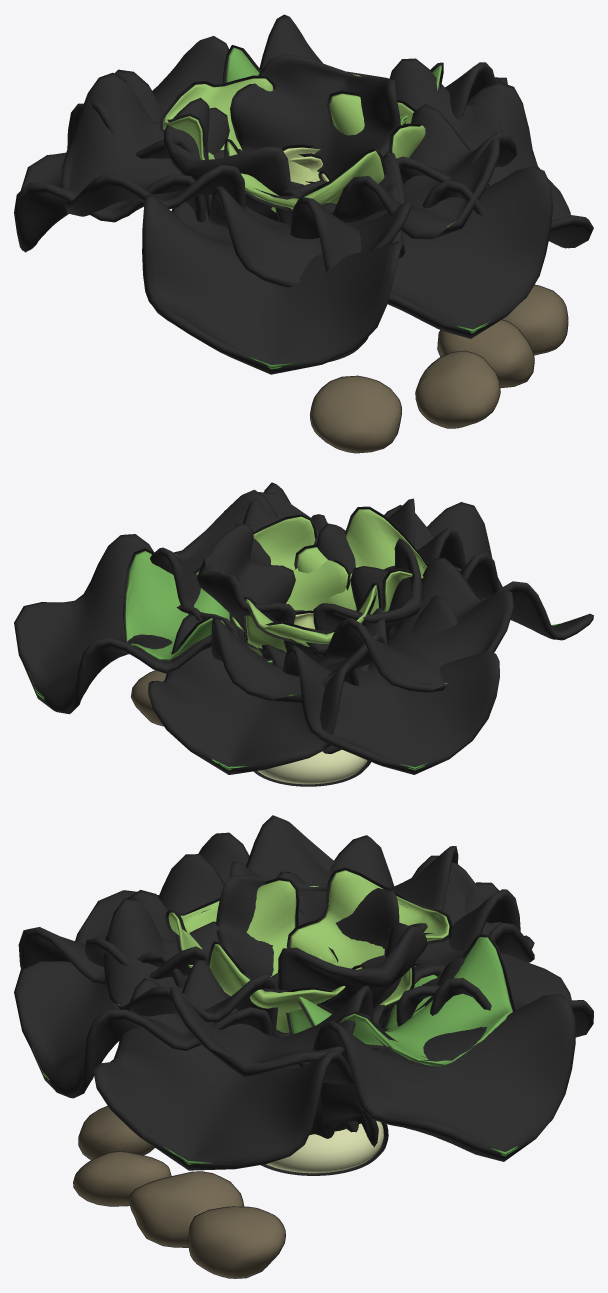
File: lettuceground.fbx
3 views of the same model, one above another, from view 1: azimuth 30°, elevation 25°; view 2: azimuth 150°, elevation 25°; view 3: azimuth 270°, elevation 25° (orthographic). The views are drawn at different scales.
Visible parts, largest first — view 1: Lettuce; view 2: Lettuce, Lettuce_Stem; view 3: Lettuce, Lettuce_Stem.
Part boxes in pixels (<box>): Lettuce: <box>14,14,593,453</box>; Lettuce: <box>14,482,593,774</box>; Lettuce_Stem: <box>253,750,370,786</box>; Lettuce: <box>14,815,593,1278</box>; Lettuce_Stem: <box>261,1121,388,1175</box>.
Size of what is drawn, in the model's own units: 232 by 119 by 226.
